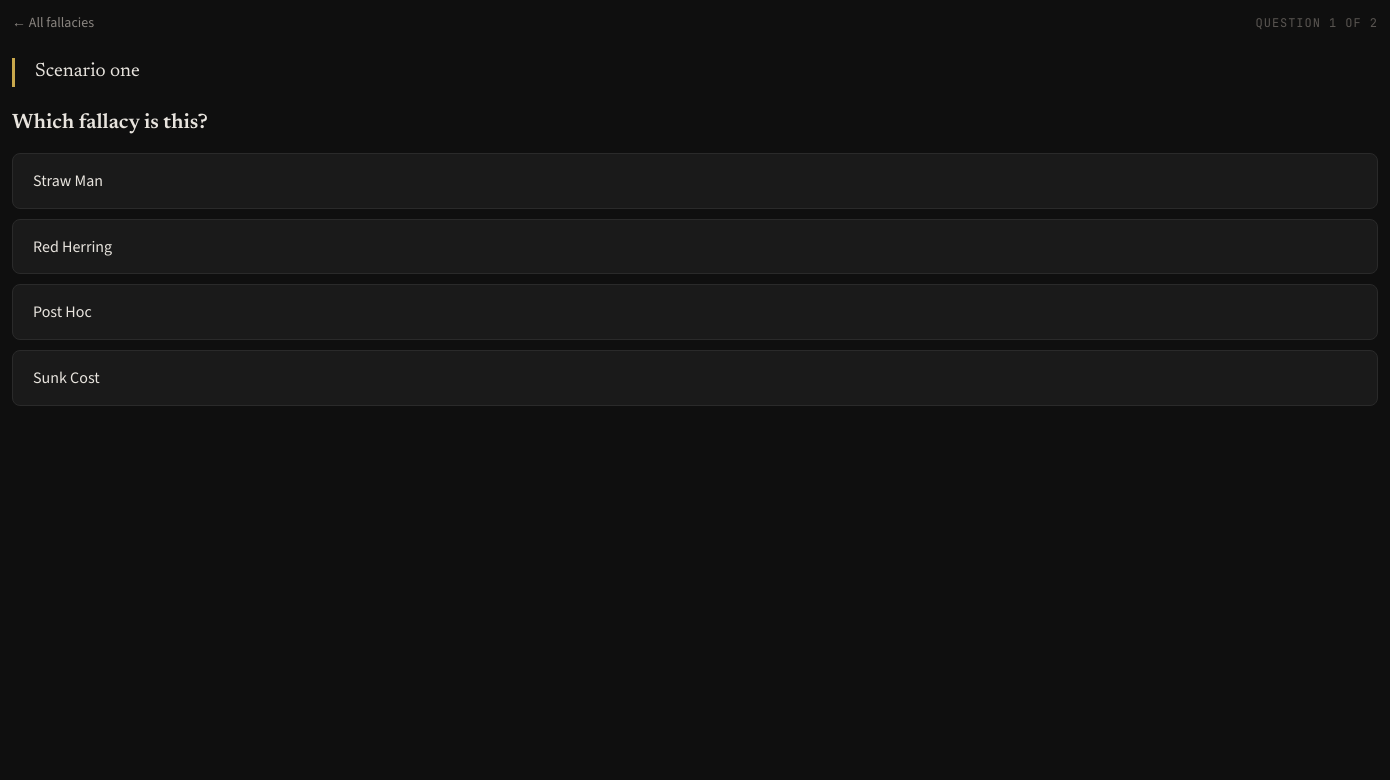
Test: FallacyQuiz › marks a correct answer and explains it
This screenshot has width=1390, height=780.
Click the button "Straw Man": coordinates (68, 181) [12,153,1378,209]
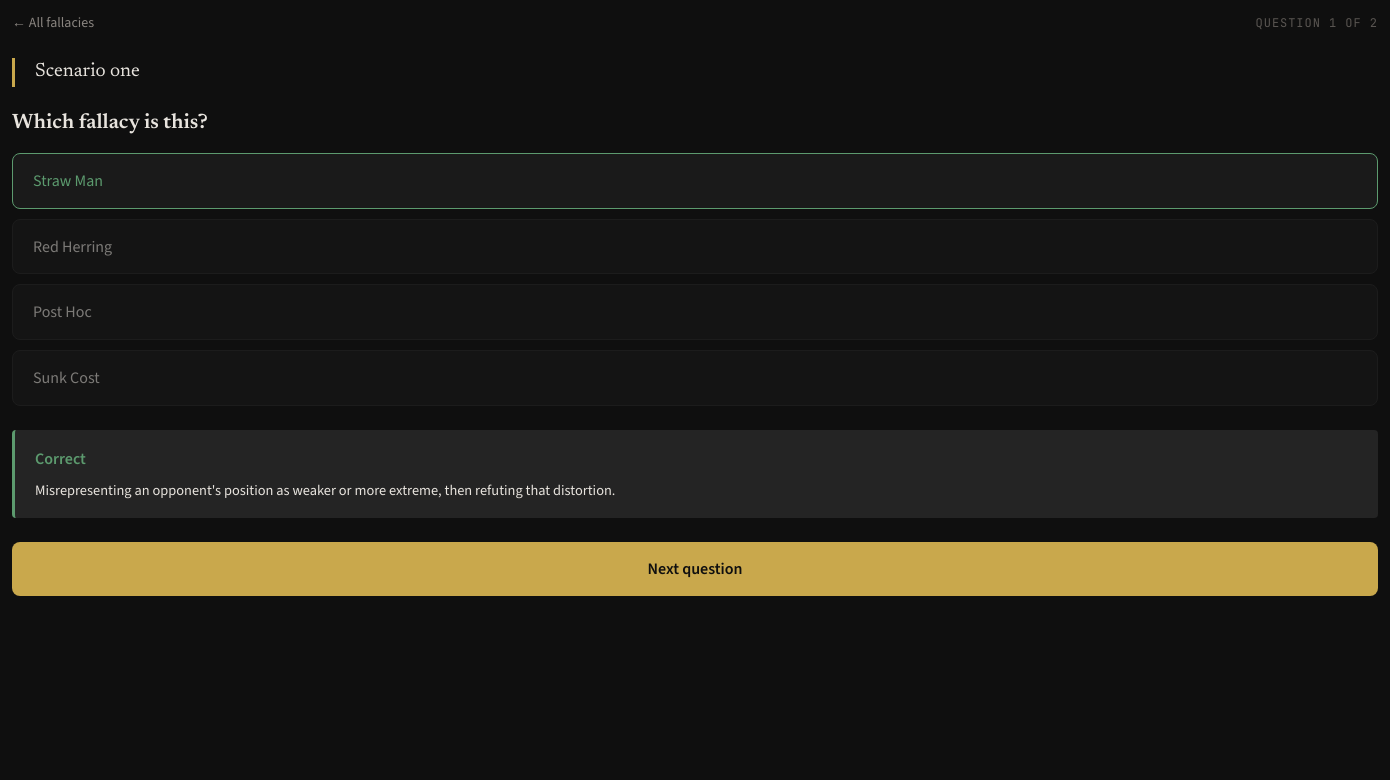
expect the text "Correct" is shown: met, box [35,448,86,468]
expect the text "Misrepresenting an opponent" is shown: met, box [35,481,615,500]
